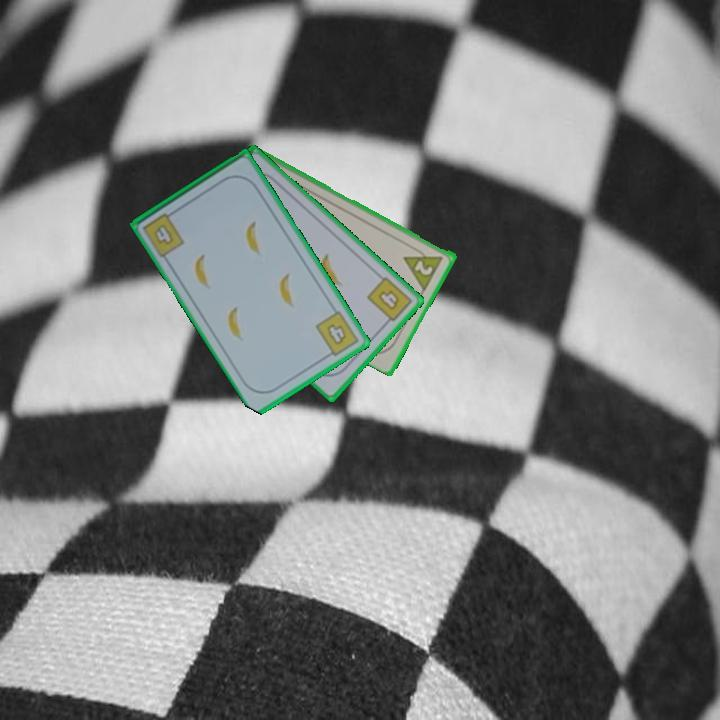2p: (400, 241, 446, 292)
4b: (363, 273, 415, 329), (312, 307, 362, 361), (139, 207, 188, 258)
